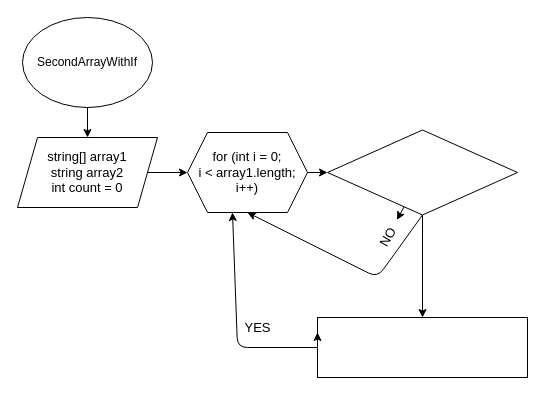
The diagram is 545 pixels wide and 395 high, and some of its shapes have lost their labels. Each missing label, with the centre of its shape:
"array2[count] = array1[i] coun++;" belongs at point 422,347.
"if (array1[i].length <= 3)" belongs at point 422,172.
